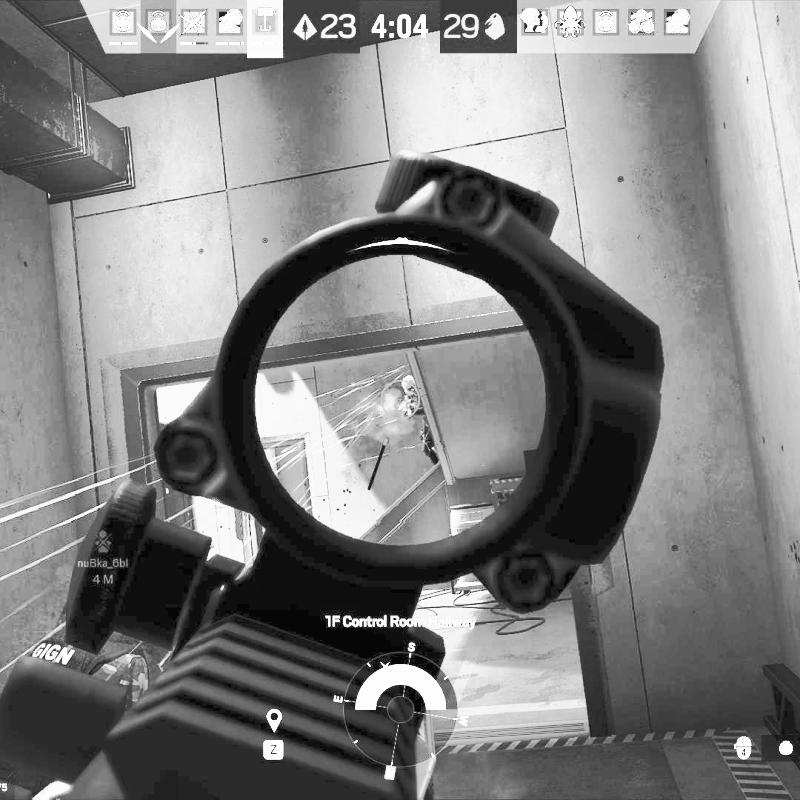Character: (5, 626, 168, 788), (397, 373, 442, 467)
Head: (402, 374, 418, 395)
